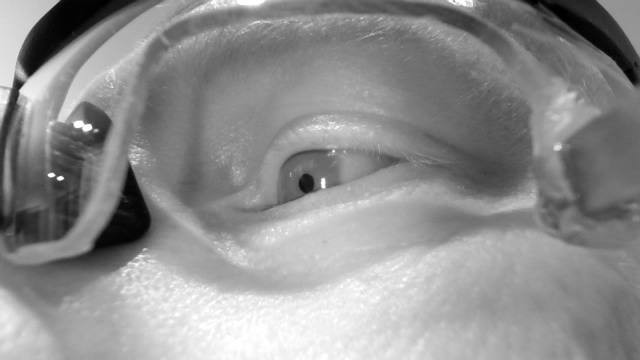pupil: (298, 172, 315, 195)
